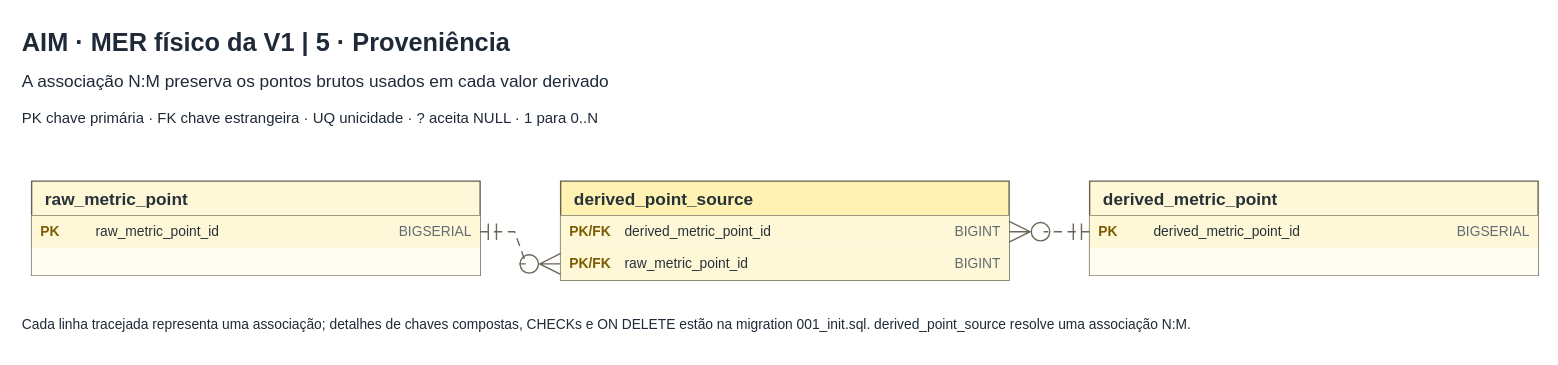
Image size: 1558x365. Some labels were removed from this diagram. Each missing label, with the centre of its shape:
"Tabela completa na aba 2" goes at pixel 255 261.
"Tabela completa na aba 4" goes at pixel 1313 261.
